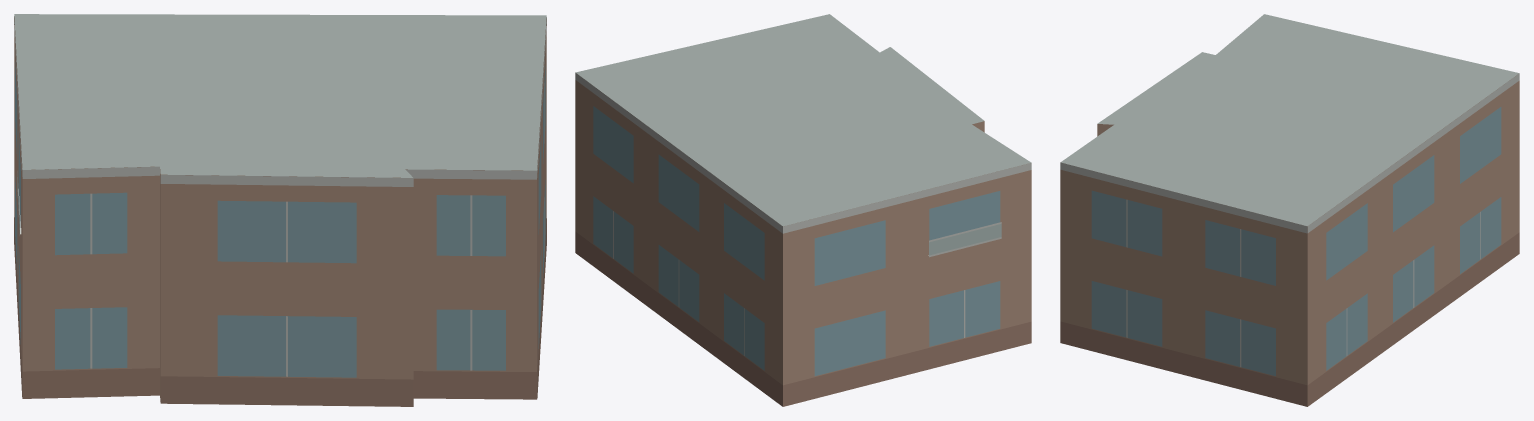
Rendered from survey-upis-33027512.glb.
3 renders of one model, left to right at view 1: azimuth 30°, elevation 25°; view 2: azimuth 150°, elevation 25°; view 3: azimuth 270°, elevation 25°, orthographic. The views are drawn at different scales.
Parts seen in each view (by area): view 1: survey-upis-33027512.tmp; view 2: survey-upis-33027512.tmp; view 3: survey-upis-33027512.tmp.
Boxes of the visible parts, x1=… form: survey-upis-33027512.tmp: x1=14, y1=14, x2=546, y2=406; survey-upis-33027512.tmp: x1=575, y1=14, x2=1031, y2=406; survey-upis-33027512.tmp: x1=1060, y1=14, x2=1519, y2=406.
Bounding box in the file's own units: 15.39 × 6.1 × 14.07.
